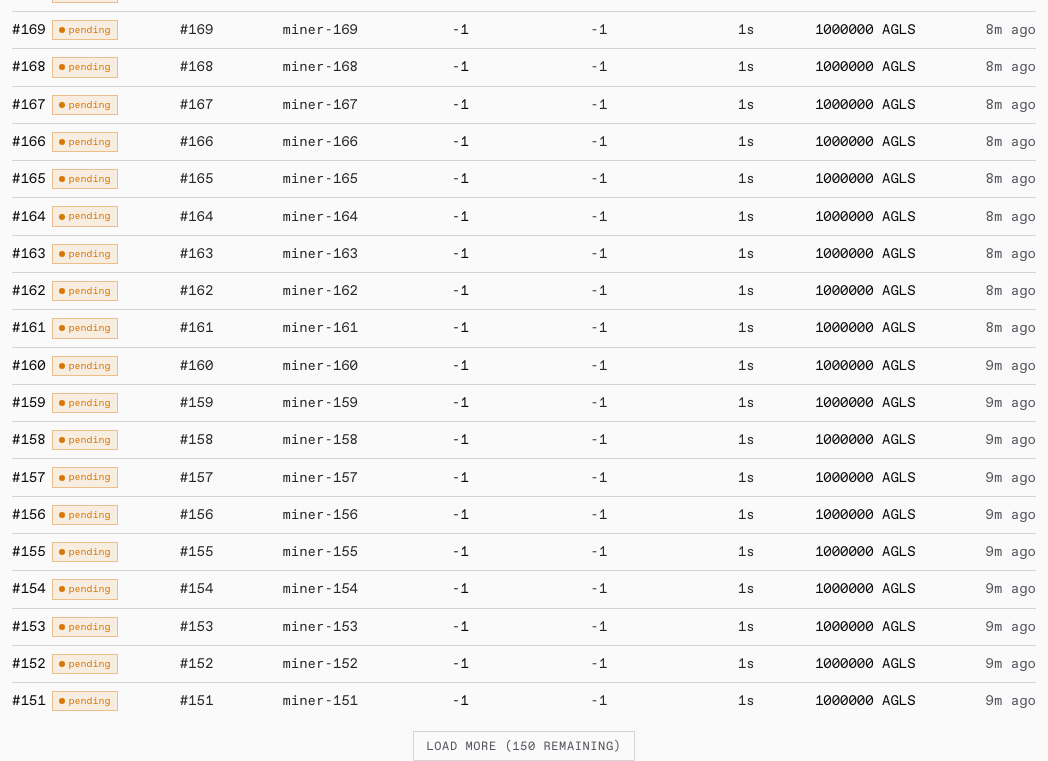
Test: RecentBlocksTable pagination › clicking Load more reveals 100 more rows until exhausted
(page scrolled)
Click the button with test id "load-more".
click(524, 746)  # box [414,731,634,760]
(page scrolled)
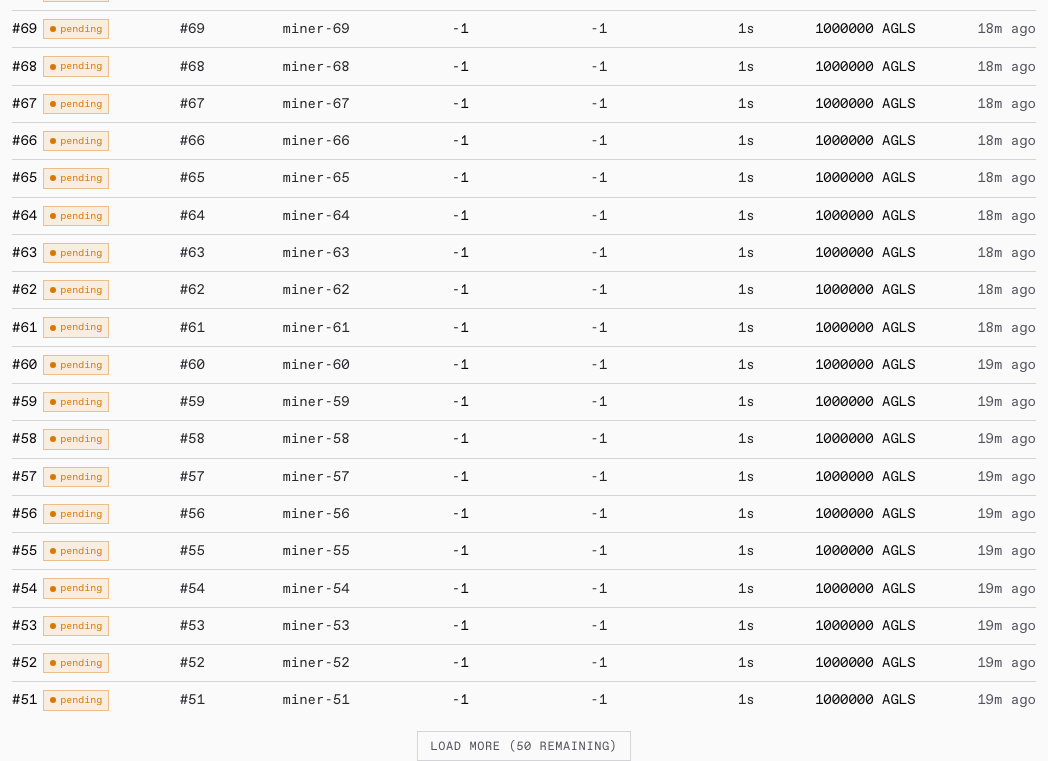
Click the button with test id "load-more".
click(524, 746)  # box [417,730,631,760]
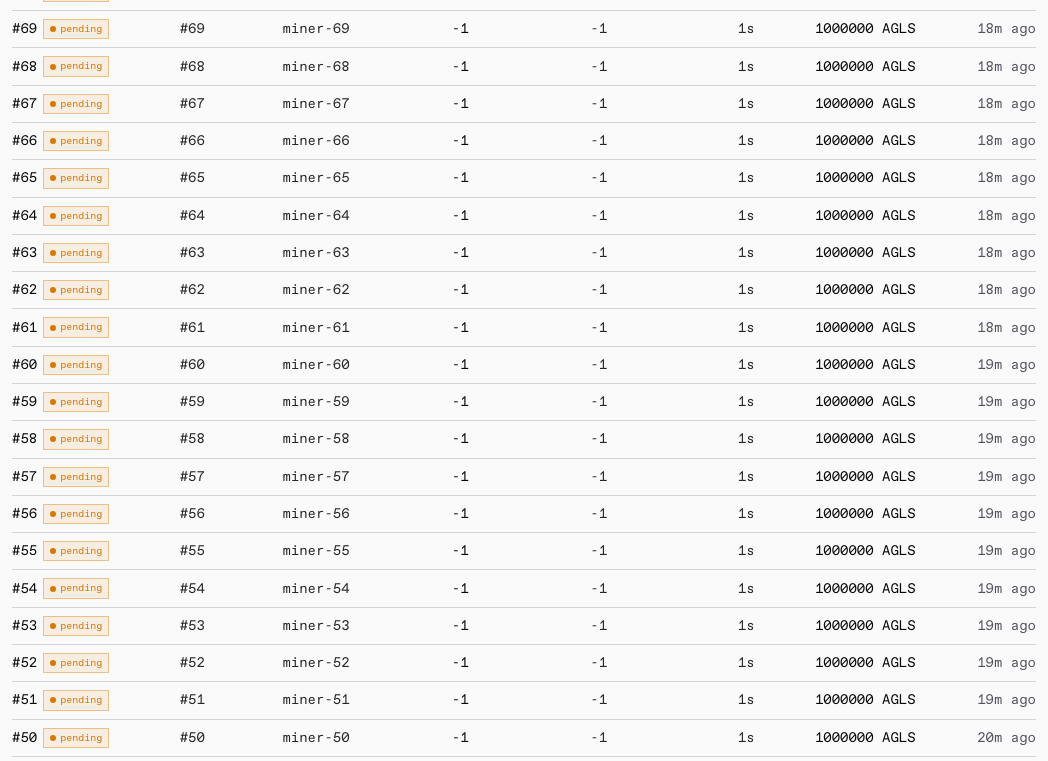
Result: the button with test id "load-more" is gone
